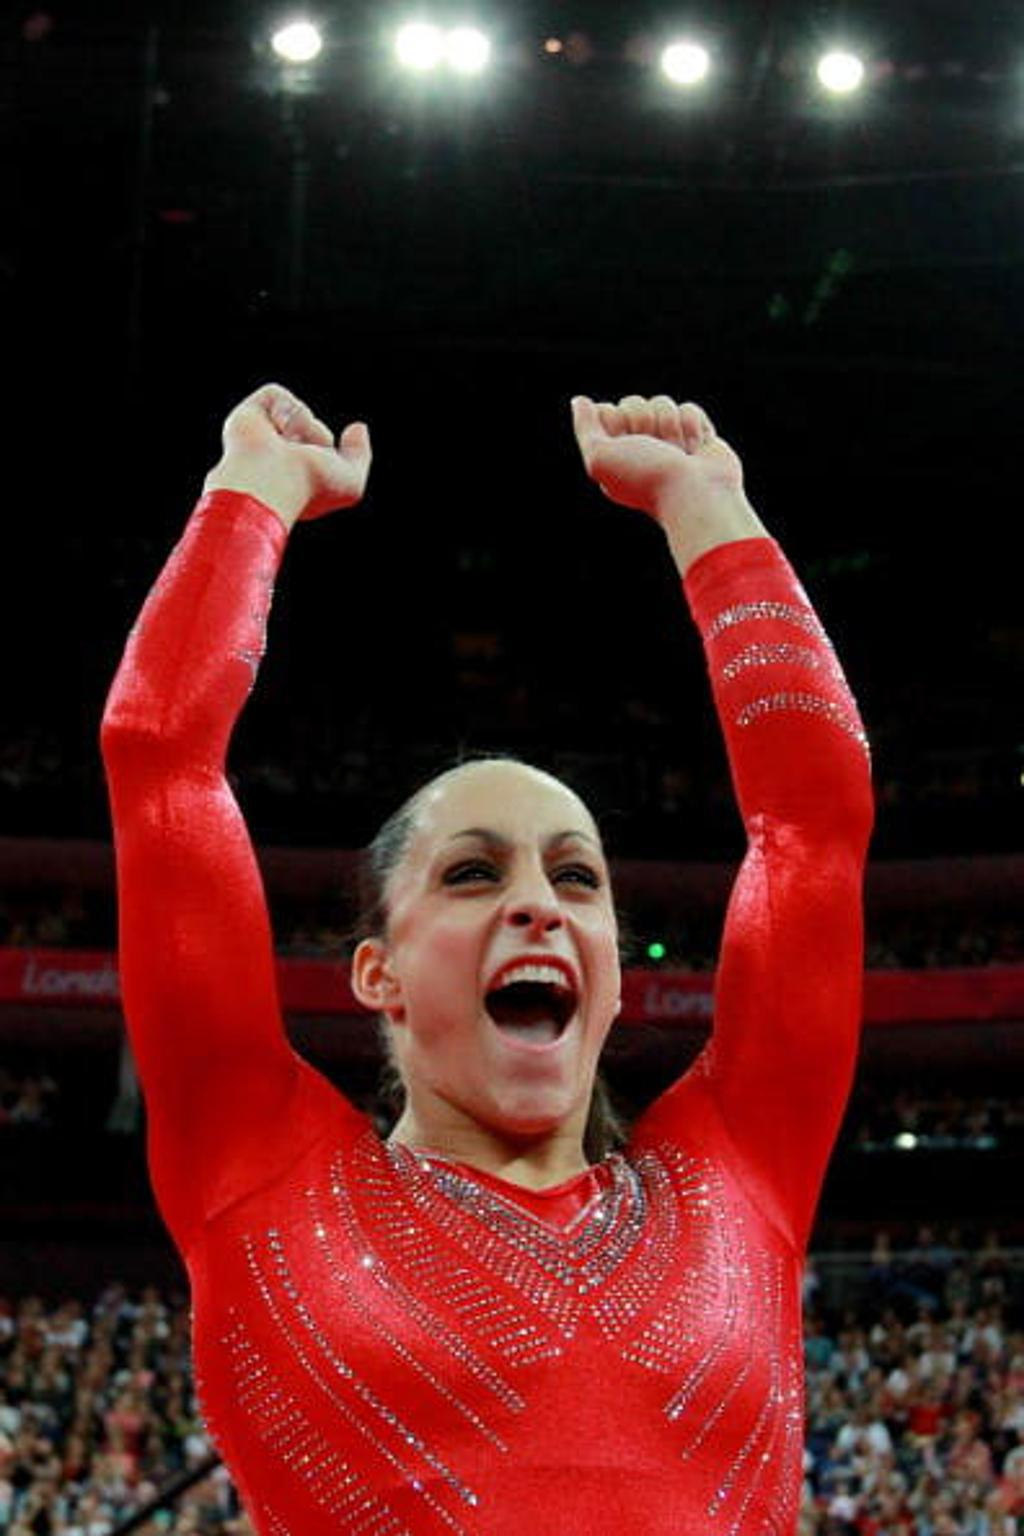face: (394, 761, 619, 1133)
